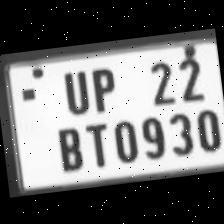0: (189, 99, 224, 152), (106, 113, 140, 163)
2: (170, 48, 206, 103), (141, 54, 178, 104)
3: (162, 105, 194, 158)
9: (134, 108, 166, 159)
B: (50, 119, 86, 172)
P: (83, 60, 121, 114)
T: (79, 116, 112, 168)
U: (54, 62, 92, 116)
